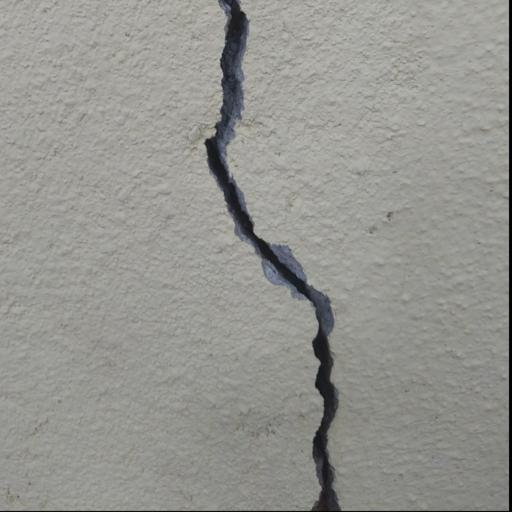major_crack: (204, 0, 352, 512)
